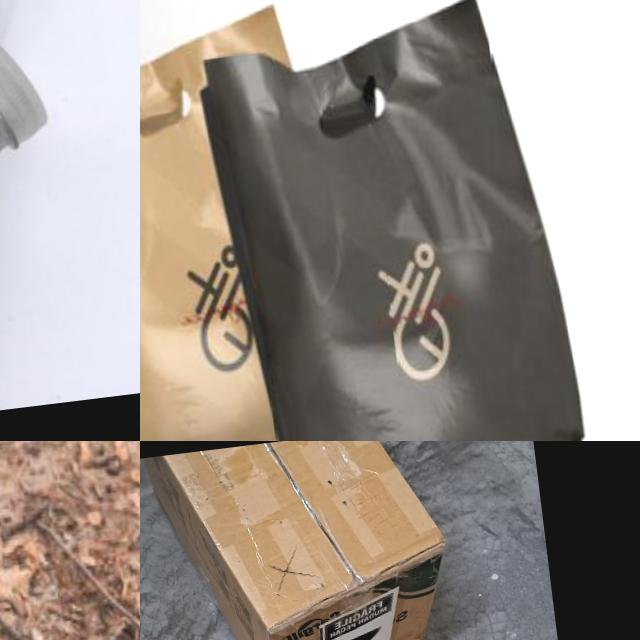papelão: (147, 441, 467, 640)
sacola plástica: (194, 0, 607, 441), (140, 0, 354, 441), (0, 549, 136, 640)
tampa plástica: (0, 21, 51, 159)
